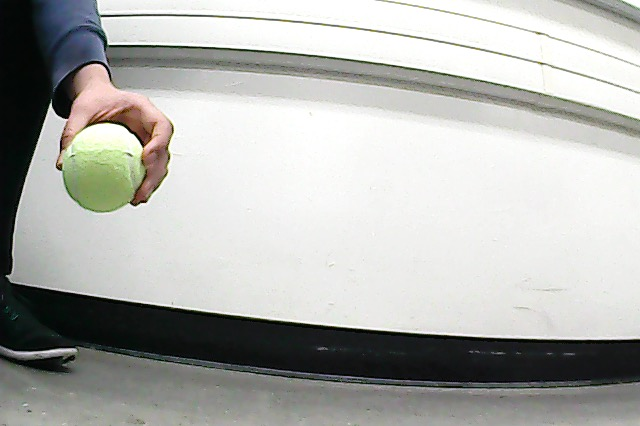ball: (60, 122, 151, 215)
